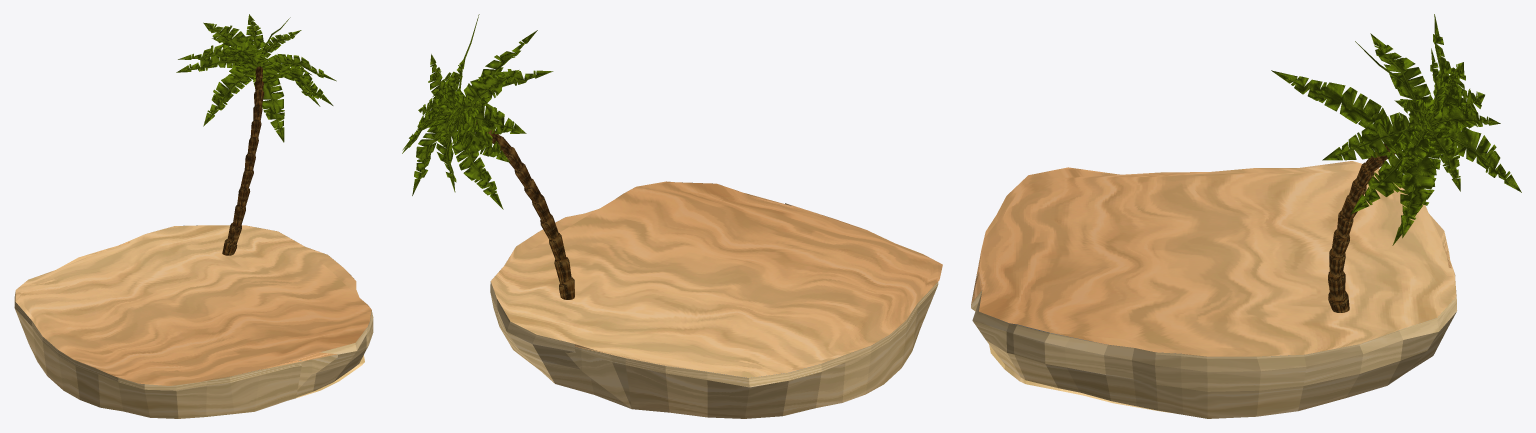
Rendered from IlePP.glb.
3 views of the same model, side by side, from view 1: azimuth 30°, elevation 25°; view 2: azimuth 150°, elevation 25°; view 3: azimuth 270°, elevation 25° (orthographic). The views are drawn at different scales.
Parts seen in each view (by area): view 1: Cylinder, Neutre.002; view 2: Cylinder, Neutre.002; view 3: Cylinder, Neutre.002.
Boxes of the visible parts, x1=… form: Cylinder: x1=14, y1=225, x2=373, y2=418; Neutre.002: x1=176, y1=14, x2=336, y2=255; Cylinder: x1=490, y1=181, x2=942, y2=418; Neutre.002: x1=402, y1=14, x2=574, y2=299; Cylinder: x1=971, y1=161, x2=1457, y2=418; Neutre.002: x1=1271, y1=14, x2=1521, y2=312.
Bounding box in the file's own units: 2.8 × 2.19 × 2.78.
2 materials, 2 textured.
